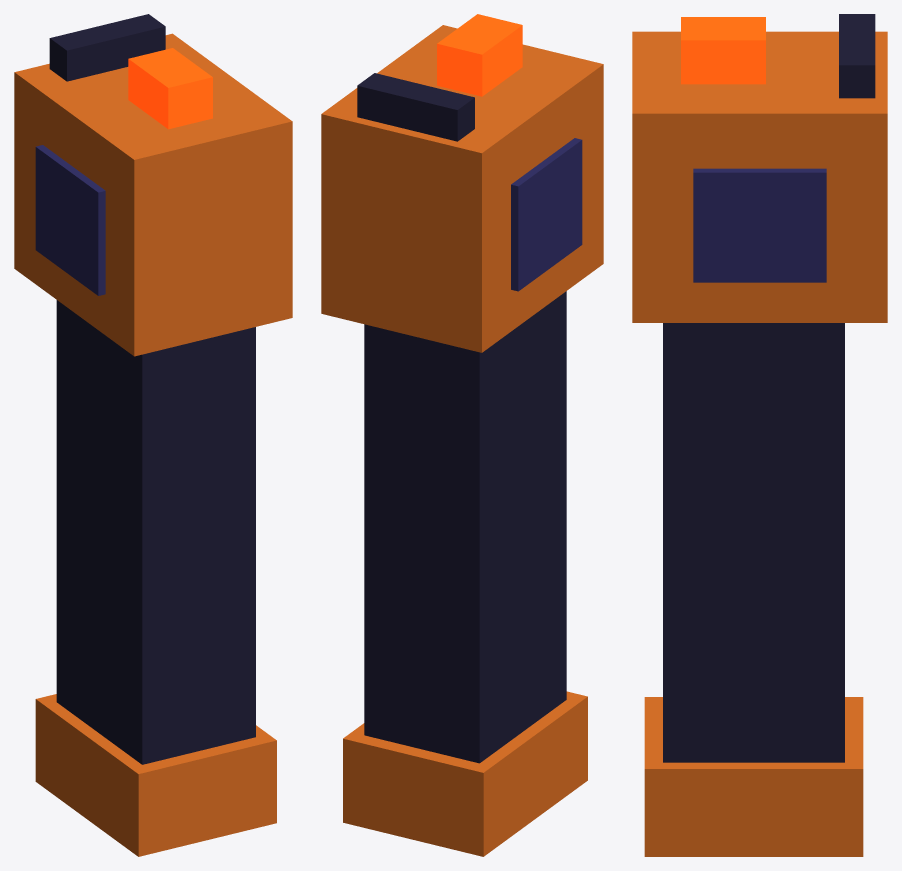
The model's file is utility_cutter.lod1.glb.
3 views of the same model, side by side, from view 1: azimuth 30°, elevation 25°; view 2: azimuth 150°, elevation 25°; view 3: azimuth 270°, elevation 25° (orthographic). The views are drawn at different scales.
Parts seen in each view (by area): view 1: item.utility_cutter.body, part.blade; view 2: item.utility_cutter.body, part.blade; view 3: item.utility_cutter.body, part.blade.
Part boxes in pixels (<box>): item.utility_cutter.body: <box>14,14,292,856</box>; part.blade: <box>128,48,212,129</box>; item.utility_cutter.body: <box>321,25,603,856</box>; part.blade: <box>437,14,522,96</box>; item.utility_cutter.body: <box>632,14,887,856</box>; part.blade: <box>681,17,765,84</box>.
Bounding box in the file's own units: 0.1094 × 0.45 × 0.1313.
